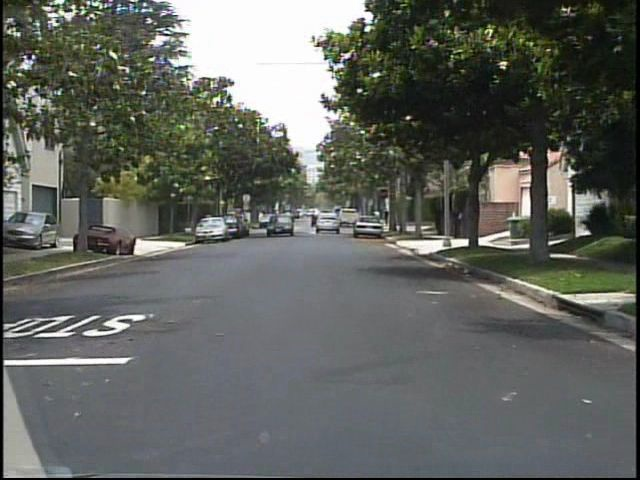person: (448, 200, 467, 242), (202, 208, 216, 233)
